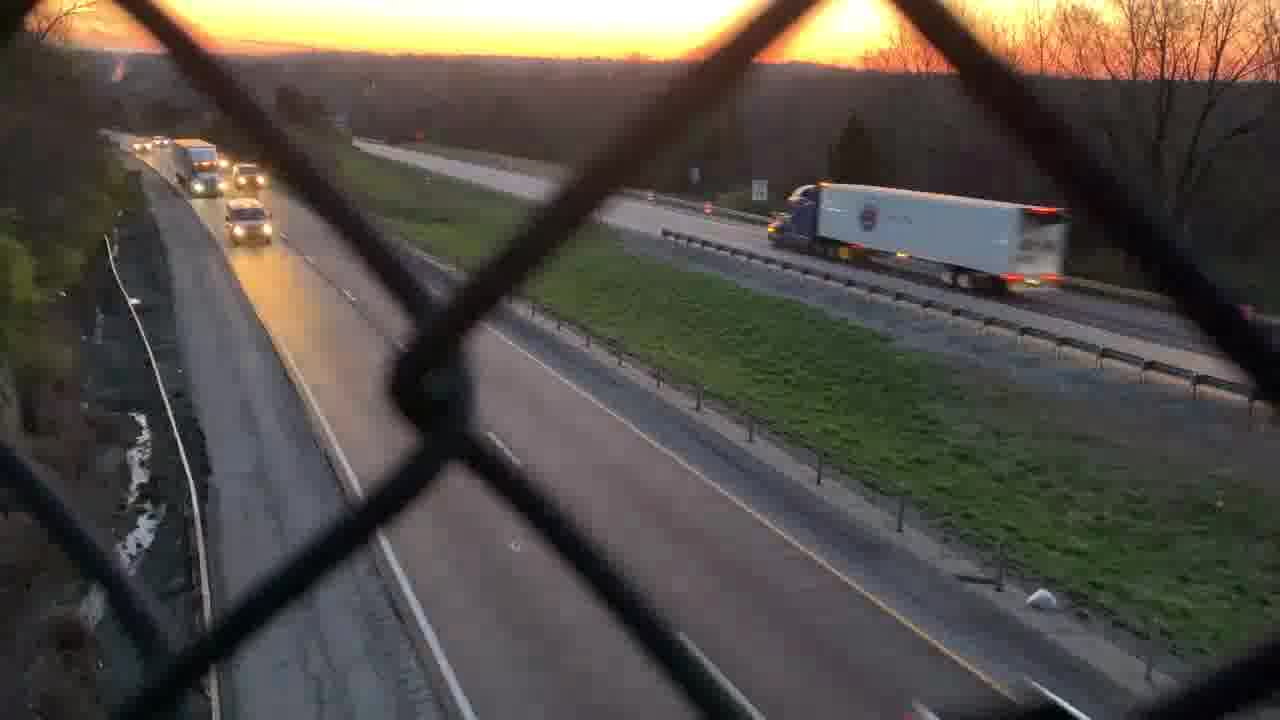heavyTruck: (766, 177, 1071, 302), (172, 135, 221, 200)
